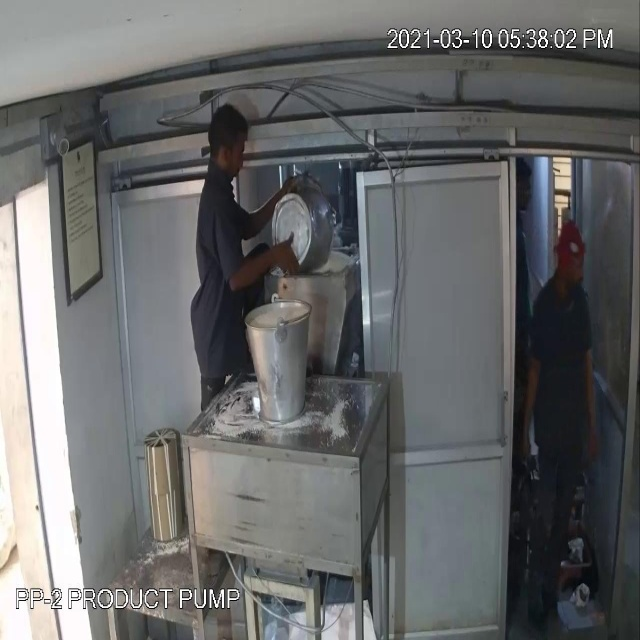Sin_guantes: (213, 226, 313, 315), (240, 162, 302, 244), (514, 336, 542, 481), (574, 328, 602, 466)
